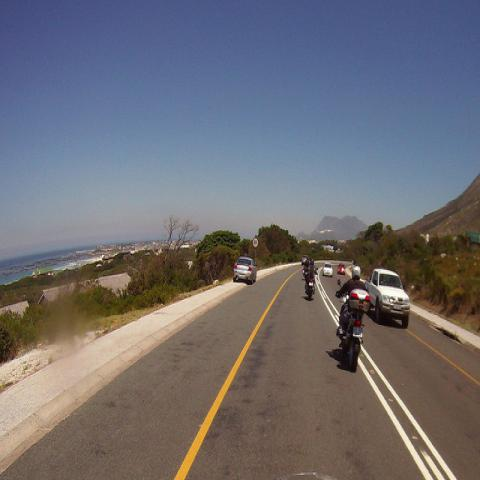car: (235, 257, 257, 285), (323, 263, 333, 277), (337, 263, 346, 275), (302, 255, 308, 265)
motorcycle: (342, 304, 363, 375), (304, 271, 316, 301)
truck: (365, 267, 410, 326)
